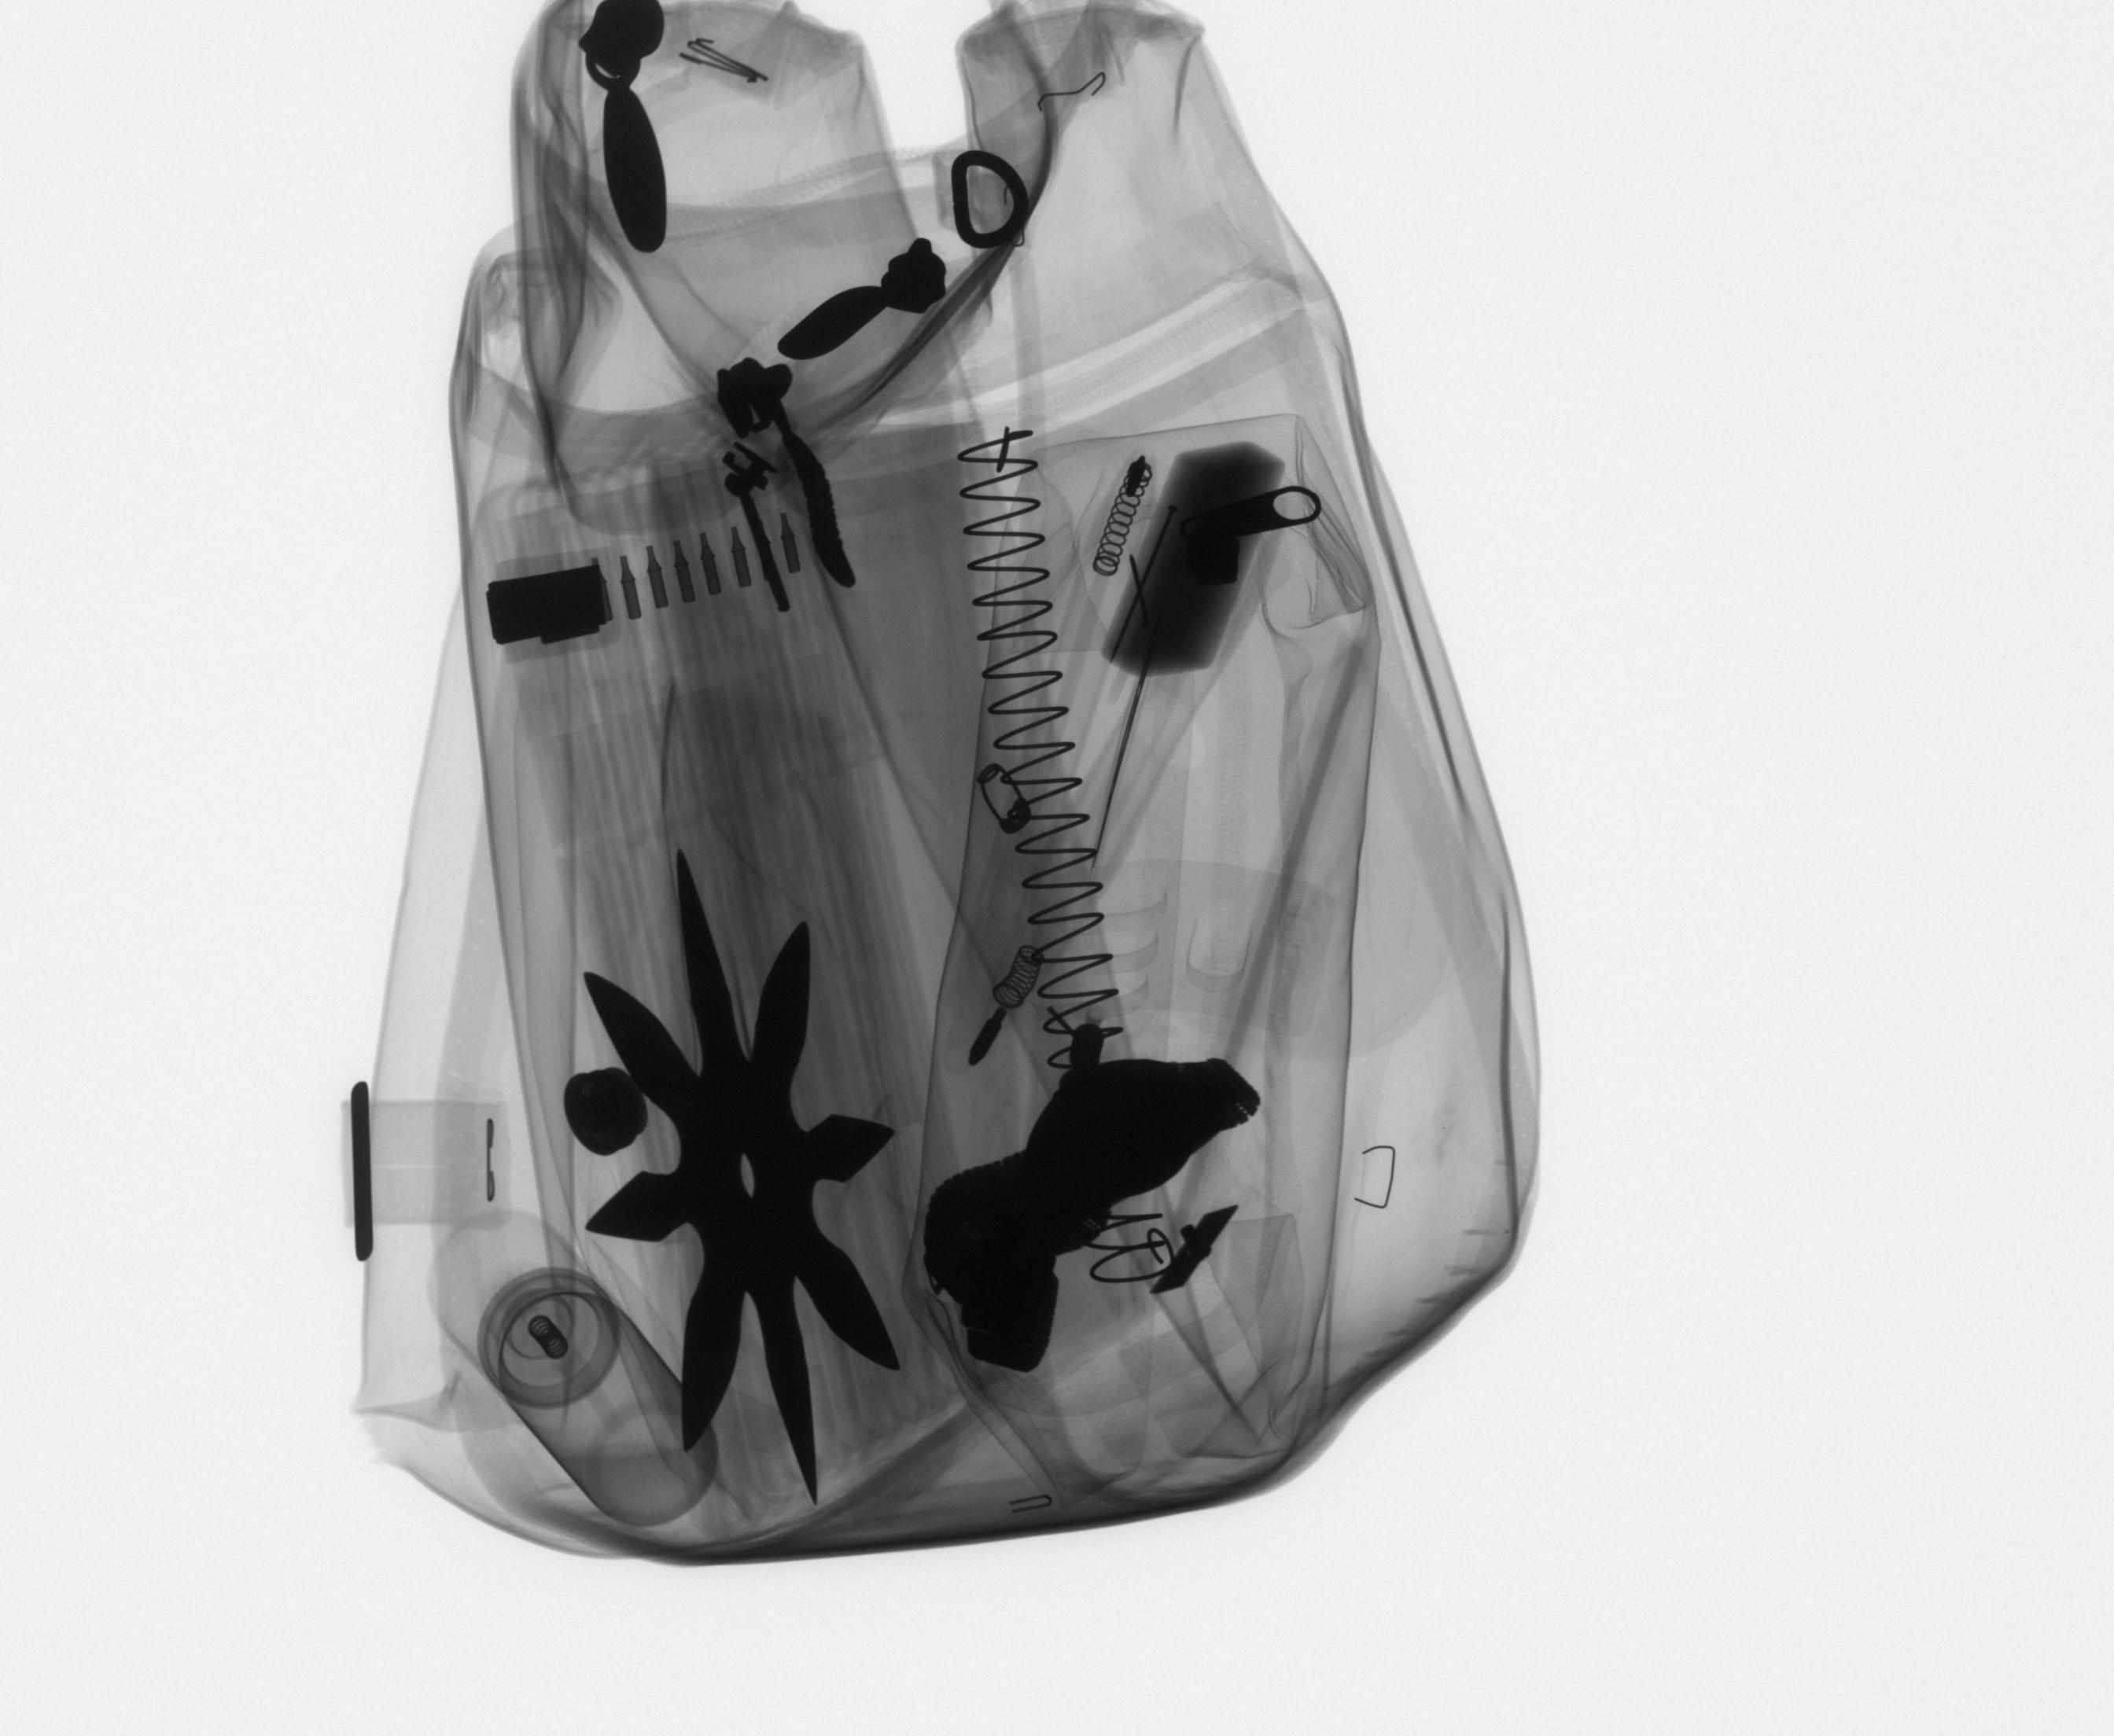Shuriken: (576, 837, 913, 1514)
